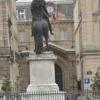Statue: (17, 2, 70, 60)
